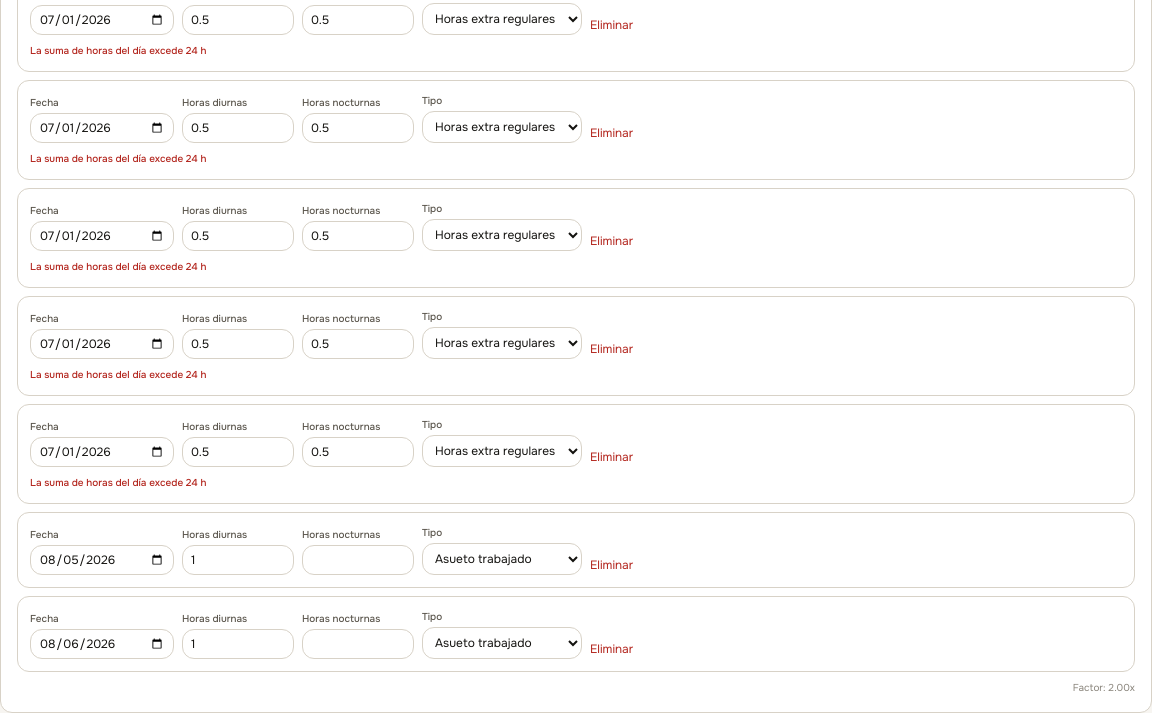
Test: EntradasPeriodo › límite al editar el estado candidato (FE-03) › asueto al límite: la conversión a extra mixto se bloquea al exceder
The width and height of the screenshot is (1152, 713).
(page scrolled)
// Paso 1: asueto2 → extra (sigue proyectando 1 segmento): permitido.
Select "Horas extra regulares" in the 7th dropdown labelled "Tipo" at (502, 643), box [422,627,582,659]
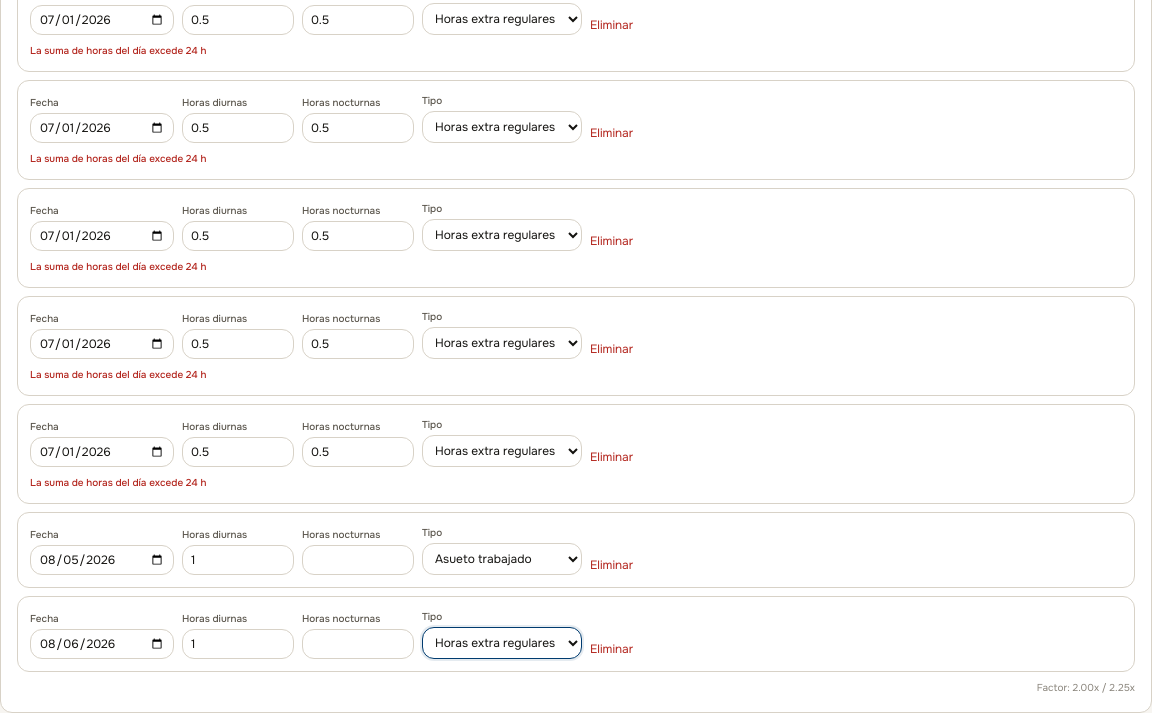
Type "0.5" into the 7th number field labelled "Horas nocturnas" at (358, 644), box [302,629,414,659]
(page scrolled)
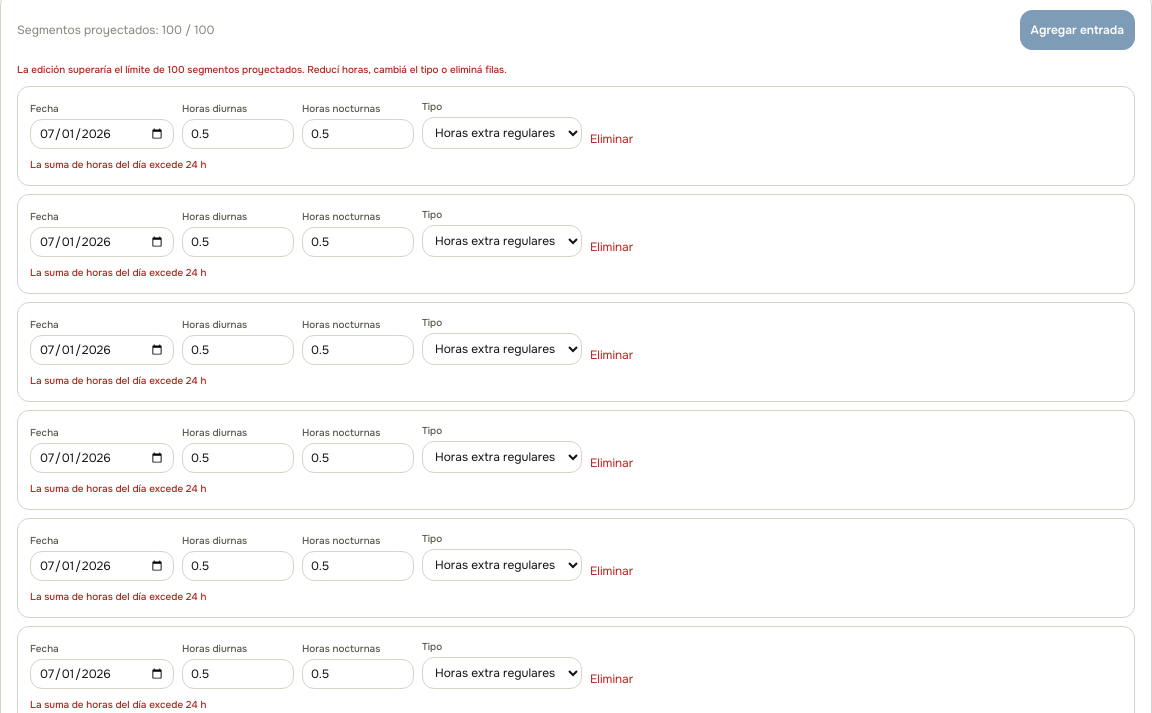
Check: the text "Segmentos proyectados: 100 / 100" is shown, box [17,22,215,38]
Check: the text "superaría el límite de 100 segmentos proyectados" is shown, box [17,63,507,76]
